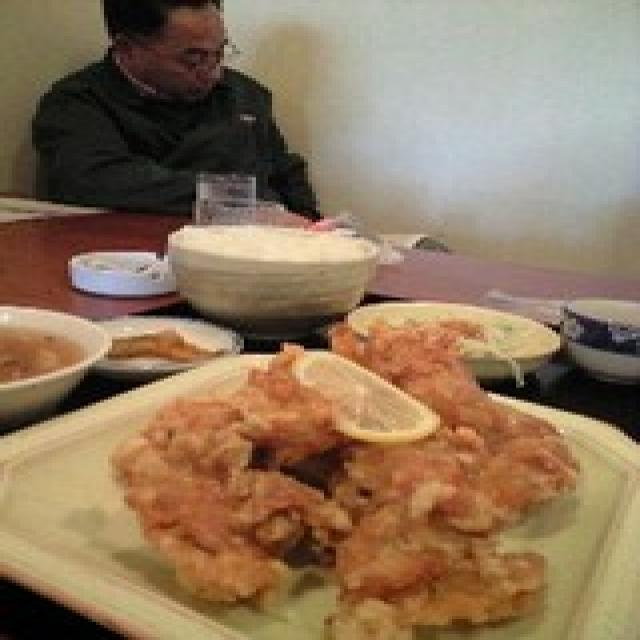鸡肉料理 含炸鸡: (76, 279, 640, 640)
